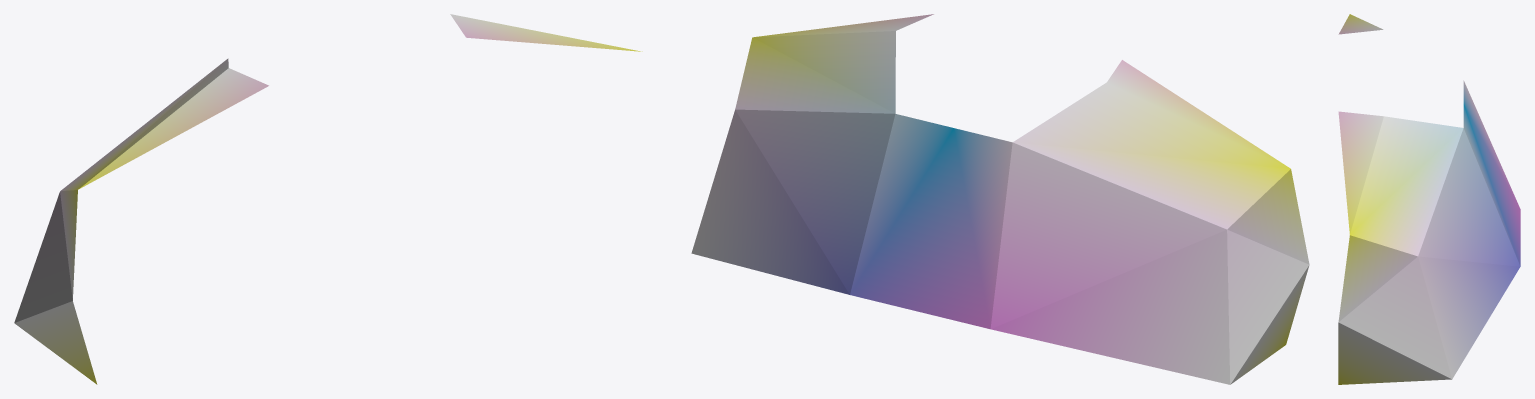
3 views of the same model, side by side, from view 1: azimuth 30°, elevation 25°; view 2: azimuth 150°, elevation 25°; view 3: azimuth 270°, elevation 25° (orthographic). The views are drawn at different scales.
Parts seen in each view (by area): view 1: model_115C; view 2: model_115C; view 3: model_115C.
Part boxes in pixels (x1,y1,x2,y2): model_115C: [14, 14, 642, 384]; model_115C: [691, 14, 1309, 384]; model_115C: [1338, 14, 1520, 384].
Bounding box in the file's own units: 48 × 20 × 16.
